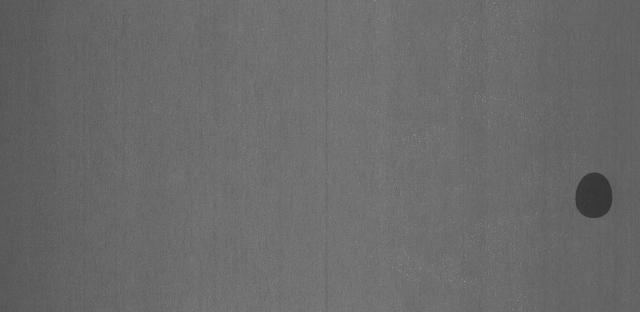oil_spot: (568, 158, 619, 227)
